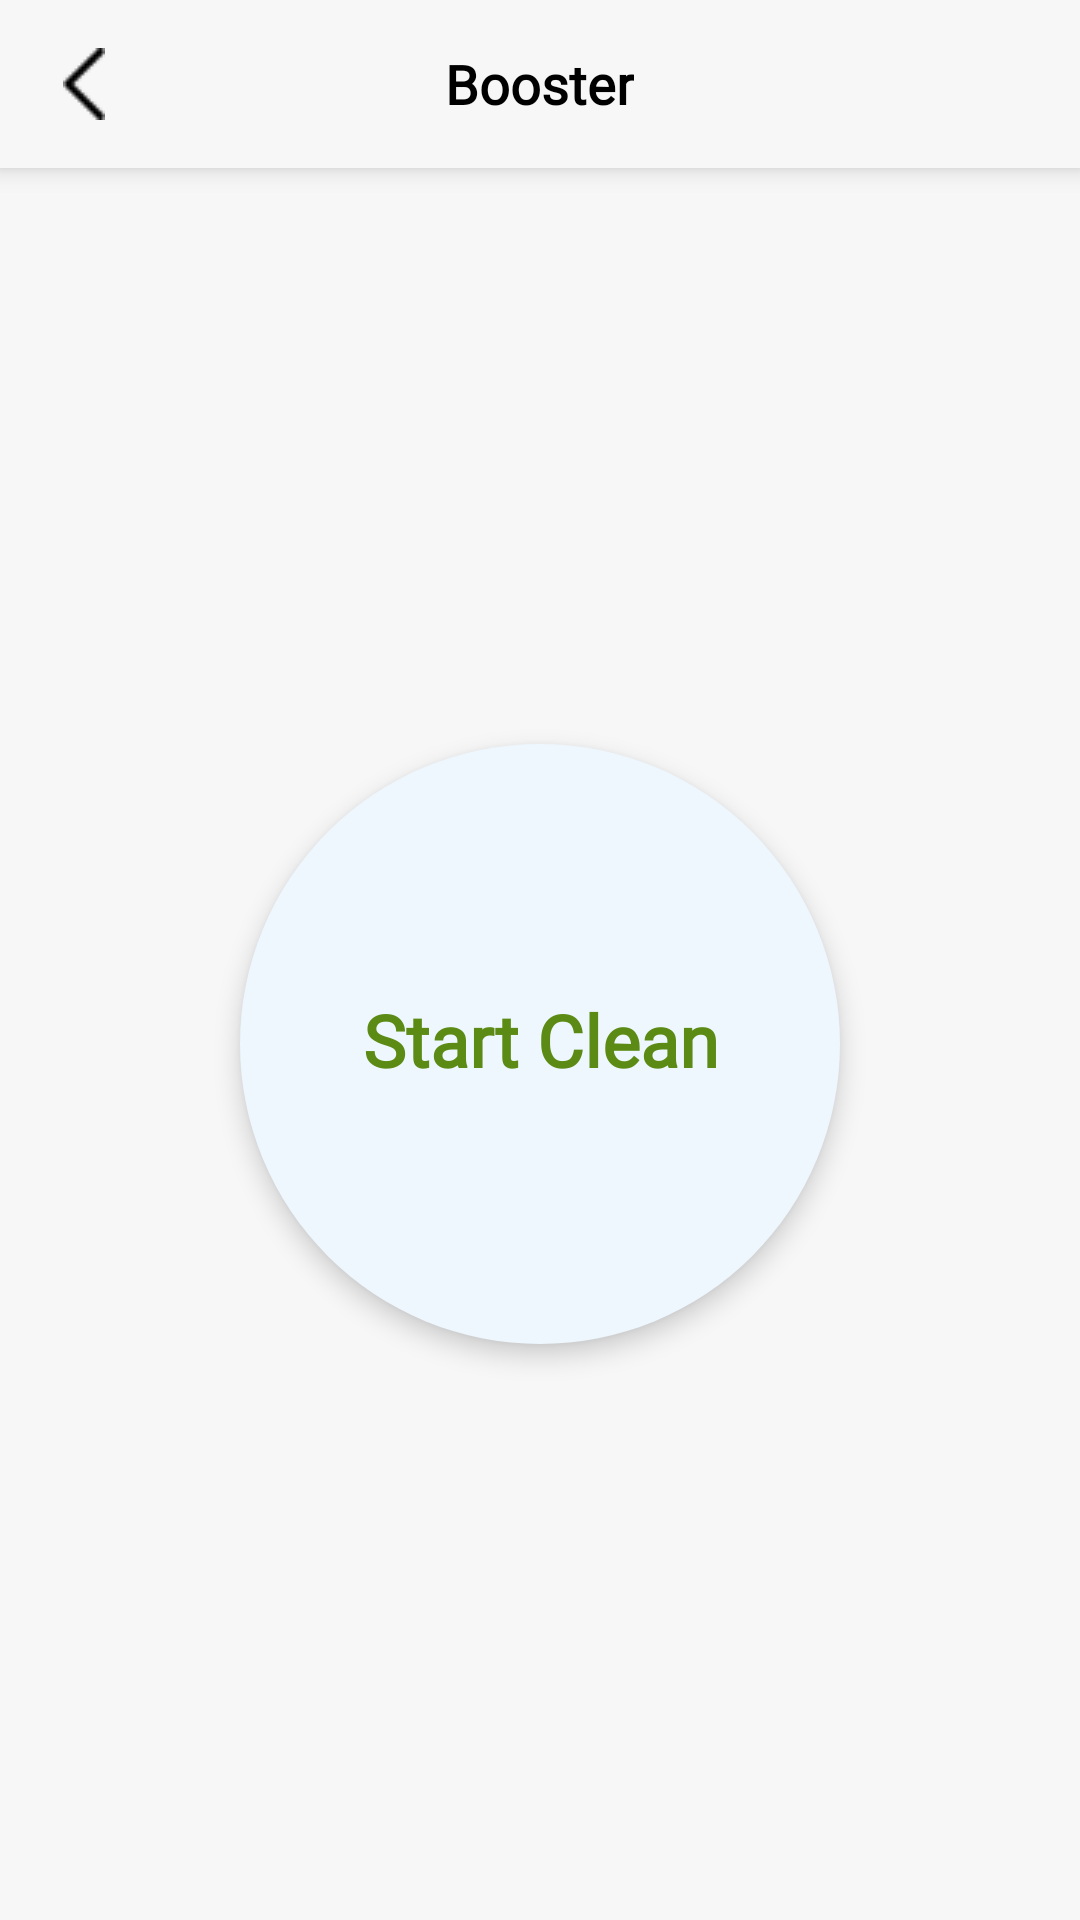

Locate icon controls on the screen. Image size 1080 × 1920, boxes as (x1, y1, x2, y2).
back: (63, 48, 105, 120)
